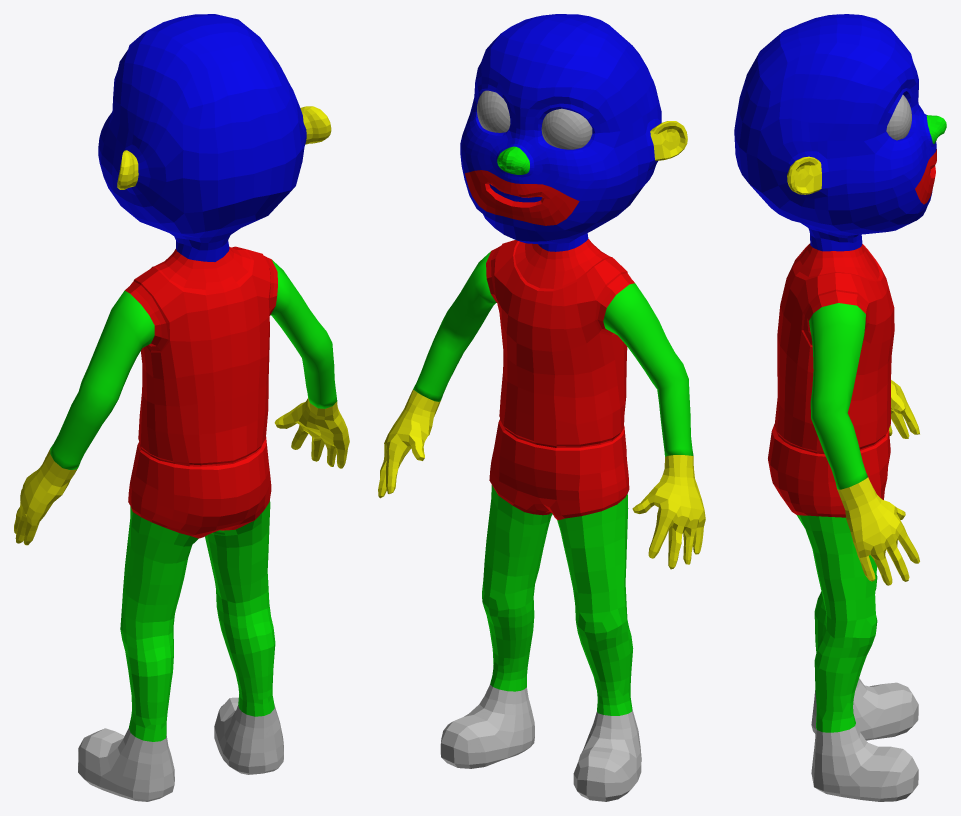
File: Puppet01.fbx
3 views of the same model, side by side, from view 1: azimuth 30°, elevation 25°; view 2: azimuth 150°, elevation 25°; view 3: azimuth 270°, elevation 25° (orthographic). The views are drawn at different scales.
Visible parts, largest first — view 1: Cabeza01, Torso_01, Pierna_L_01, Pierna_R_01, Brazo_L_01, Pie_L_01, Brazo_R_01, Pie_R_01, Mano_R_01, Mano_L_01, Orejas_01; view 2: Torso_01, Cabeza01, Pierna_L_01, Pierna_R_01, Brazo_L_01, Pie_R_01, Pie_L_01, Mano_L_01, Brazo_R_01, Boca01, Mano_R_01, Ojo_L_01 (+3 smaller); view 3: Cabeza01, Torso_01, Pierna_R_01, Brazo_R_01, Pie_R_01, Mano_R_01, Pie_L_01, Orejas_01, Mano_L_01, Ojo_R_01, Boca01, Pierna_L_01.
Boxes of the visible parts, box(x1,y1,x2,y2) form: Cabeza01: box(98, 14, 306, 261); Torso_01: box(125, 246, 277, 538); Pierna_L_01: box(120, 506, 198, 741); Pierna_R_01: box(205, 500, 275, 716); Brazo_L_01: box(50, 290, 154, 469); Pie_L_01: box(78, 728, 174, 801); Brazo_R_01: box(270, 260, 337, 408); Pie_R_01: box(214, 697, 283, 774); Mano_R_01: box(274, 398, 349, 468); Mano_L_01: box(14, 449, 77, 545); Orejas_01: box(117, 106, 331, 189); Torso_01: box(486, 239, 634, 520); Cabeza01: box(460, 14, 661, 251); Pierna_L_01: box(557, 494, 633, 715); Pierna_R_01: box(482, 485, 552, 691); Brazo_L_01: box(603, 283, 693, 456); Pie_R_01: box(440, 684, 534, 768); Pie_L_01: box(573, 709, 641, 801); Mano_L_01: box(632, 455, 705, 569); Brazo_R_01: box(413, 251, 496, 401); Boca01: box(465, 170, 579, 225); Mano_R_01: box(378, 389, 440, 498); Ojo_L_01: box(541, 108, 592, 149); Cabeza01: box(734, 14, 936, 251); Torso_01: box(768, 243, 894, 517); Pierna_R_01: box(797, 515, 877, 732); Brazo_R_01: box(809, 303, 867, 489); Pie_R_01: box(811, 723, 918, 801); Mano_R_01: box(837, 477, 919, 585); Pie_L_01: box(811, 678, 918, 740); Orejas_01: box(787, 156, 821, 194); Mano_L_01: box(889, 380, 919, 438); Ojo_R_01: box(886, 95, 911, 140); Boca01: box(915, 149, 936, 204); Pierna_L_01: box(814, 575, 877, 652).
Bounding box in the file's own units: 1.46 × 3.26 × 0.8536.
